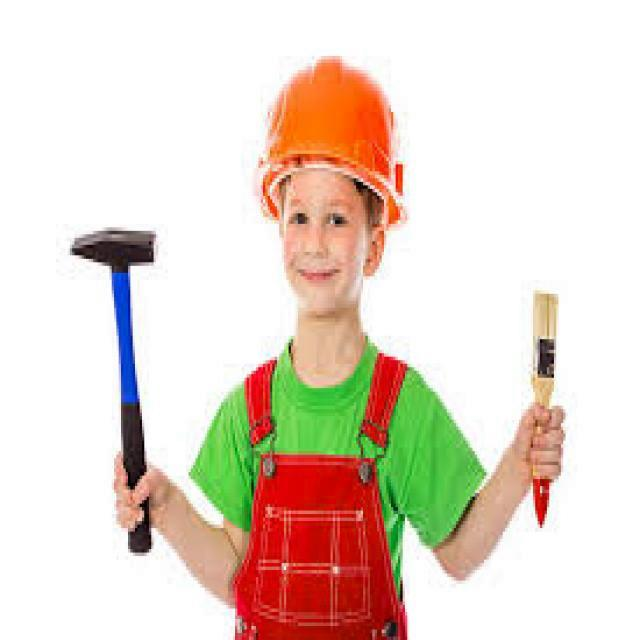hammer: (56, 194, 160, 561)
